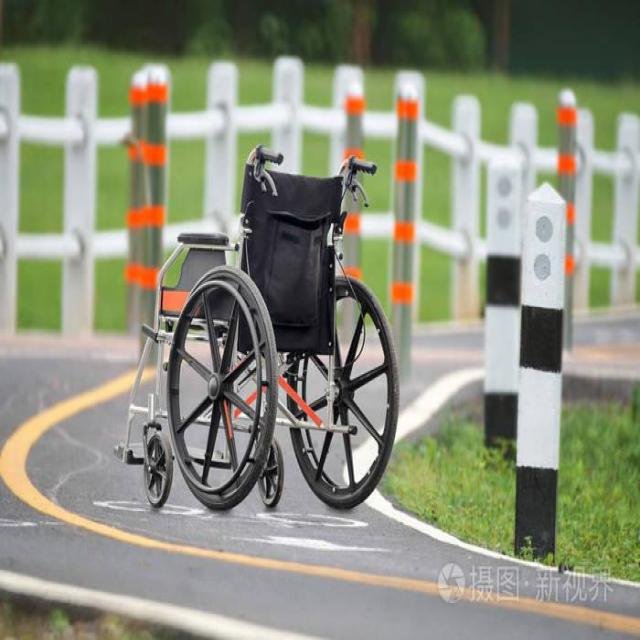wheelchairs: (104, 136, 401, 524)
